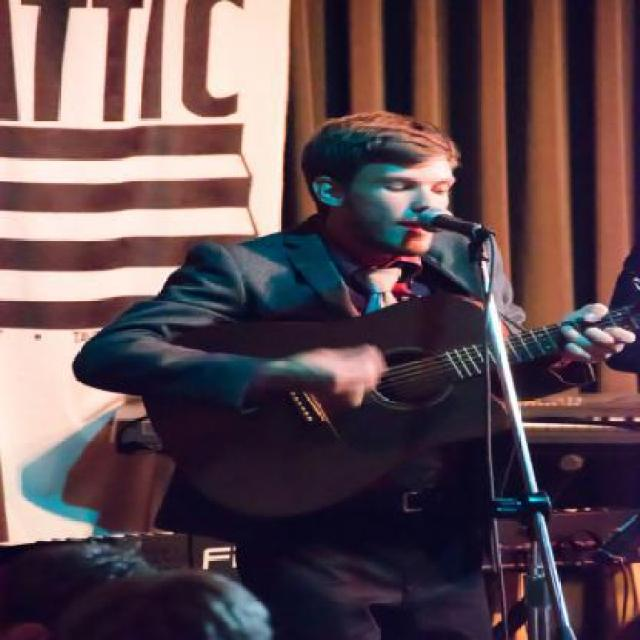Person: (89, 98, 596, 592), (0, 538, 154, 638), (59, 572, 273, 639), (604, 245, 638, 389)
